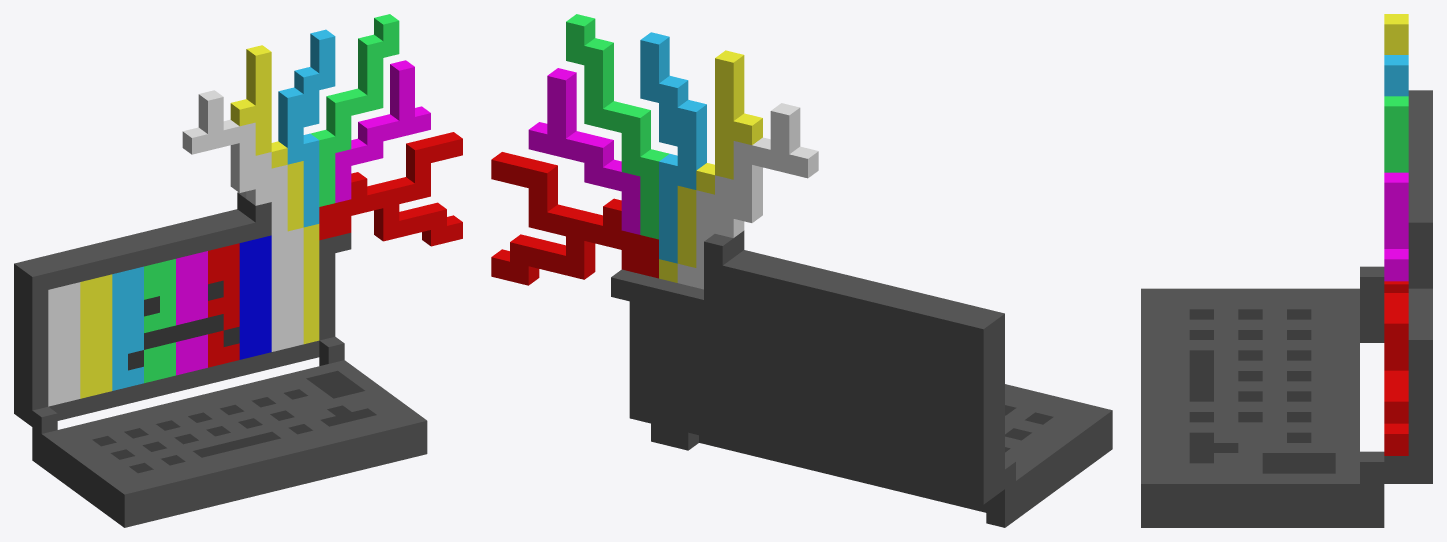
File: laptop evolution (LAD).obj
The picture shows the model from 3 angles, left to right: view 1: azimuth 30°, elevation 25°; view 2: azimuth 150°, elevation 25°; view 3: azimuth 270°, elevation 25°; orthographic projection. The views are drawn at different scales.
Bounding box in the file's own units: 2.7 × 2.1 × 1.2.
Materials: 1 (1 with a texture image).
